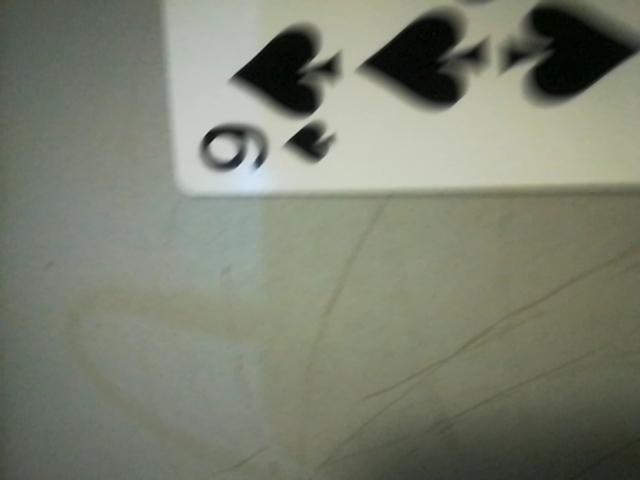ht 9: (181, 102, 352, 192)
